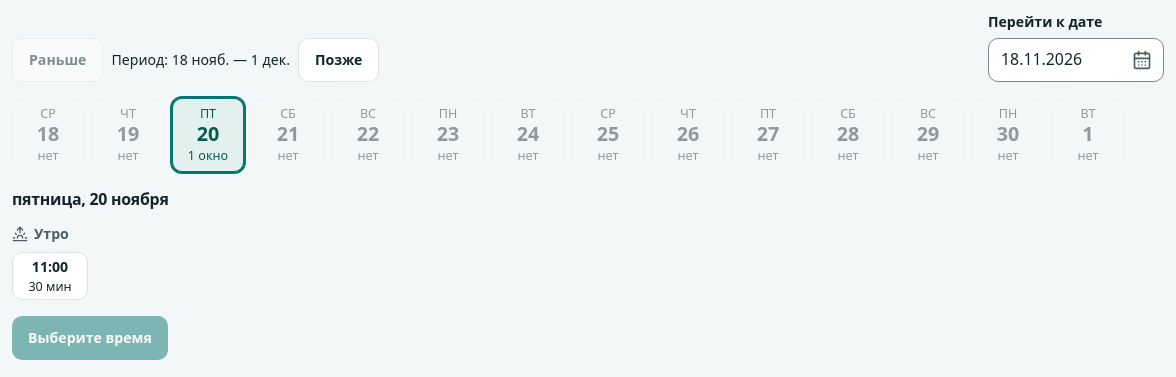
DoctorSlotsBooking › should name the chosen time on the button when a slot is chosen
The image size is (1176, 377).
Step 1. Click the button with test id "slot-slot-1" → coordinates (50, 276), box top-left (12, 252), bottom-right (88, 300)
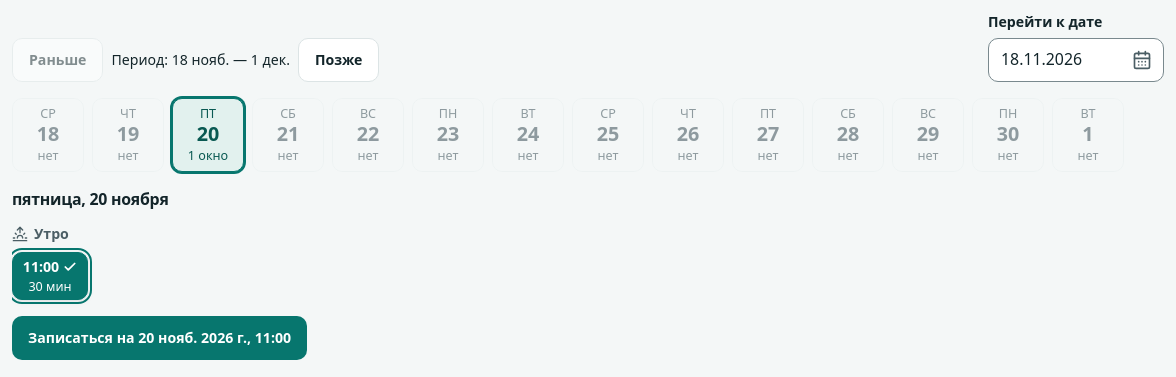
Now the button "Записаться на 20 нояб. 2026 г., 11:00" is enabled, box top-left (12, 316), bottom-right (307, 360)
